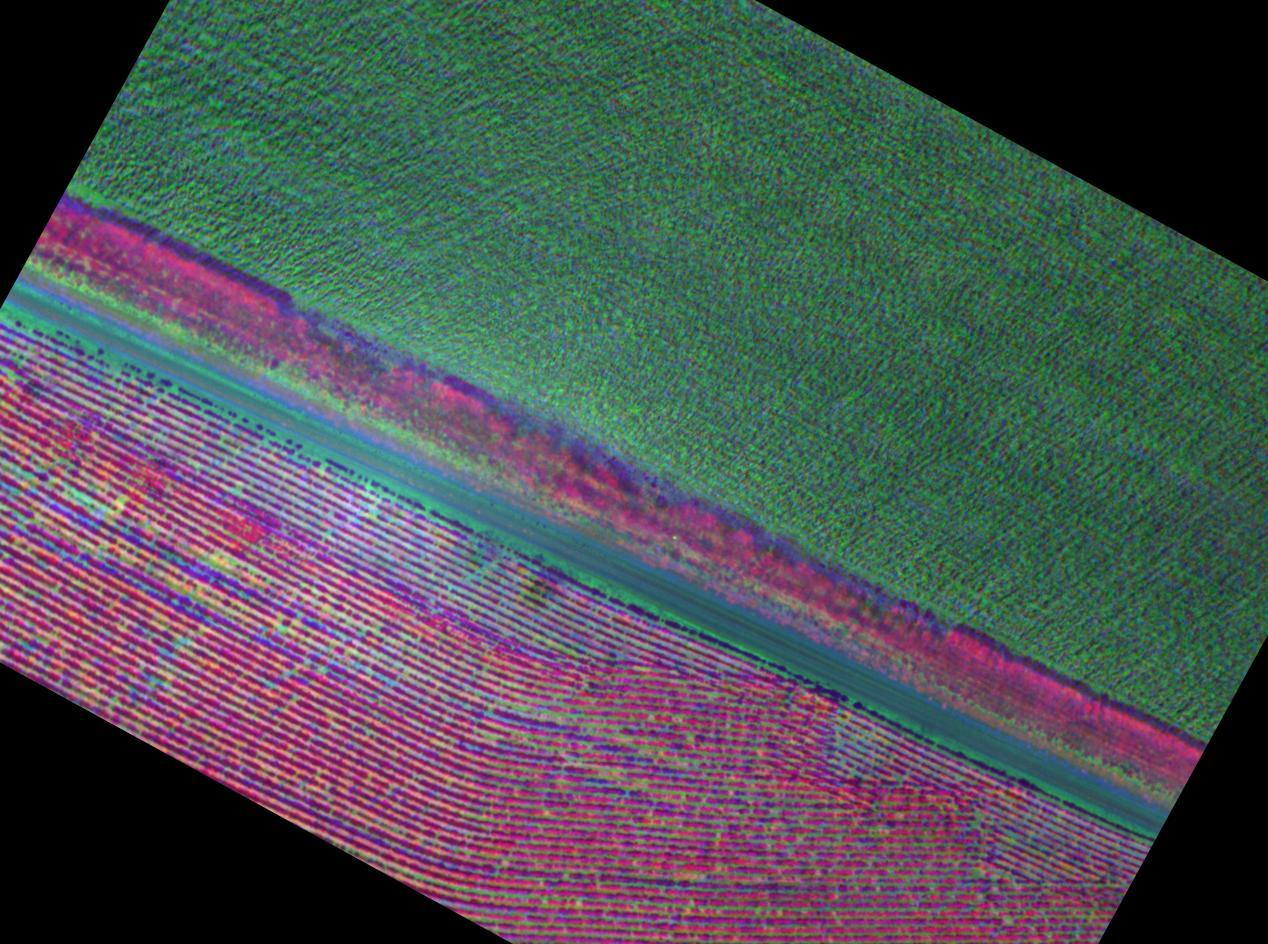dc: (13, 448, 123, 534), (504, 541, 594, 632), (192, 534, 283, 608)
